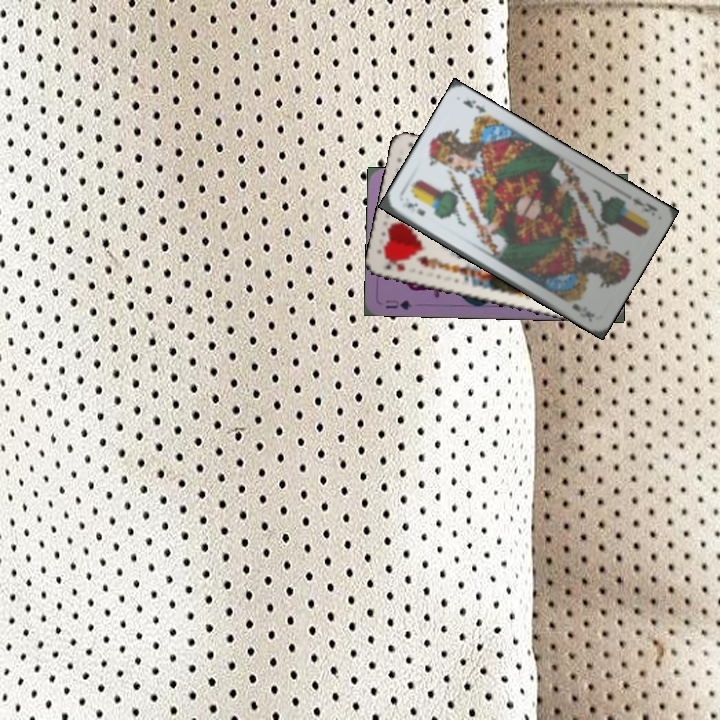EK: (629, 193, 660, 215), (402, 198, 428, 219)
GU: (382, 296, 414, 312)
HK: (380, 255, 408, 274)
